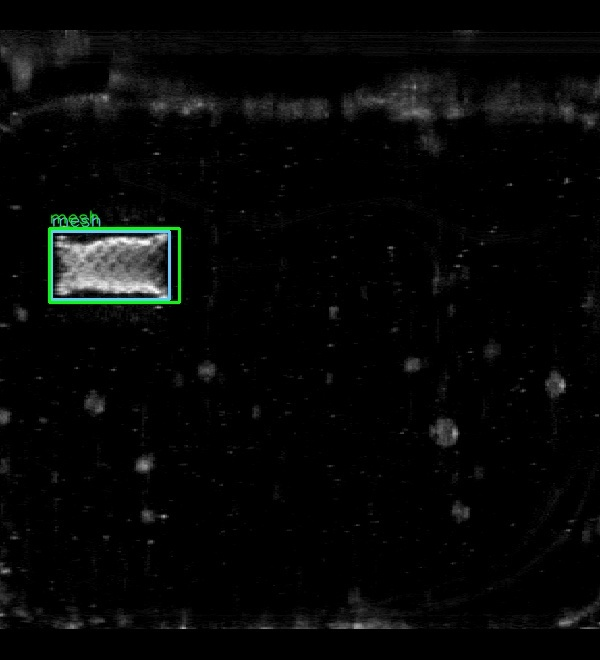mesh: (51, 231, 169, 299)
